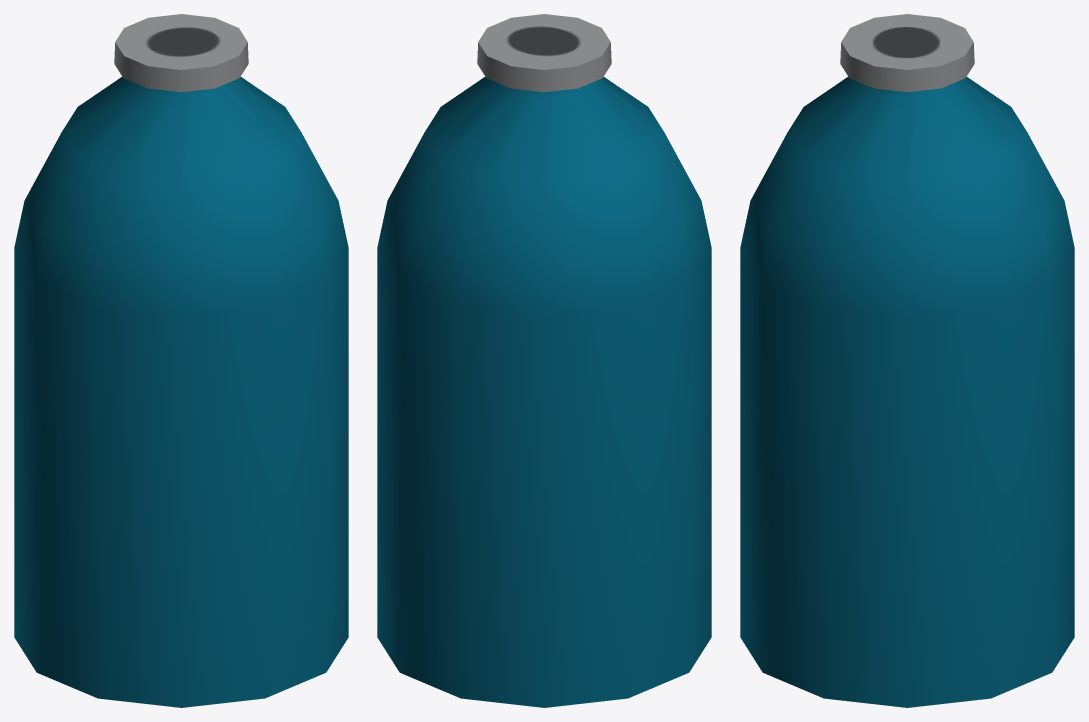
Rendered from vial6.FBX.
3 renders of one model, left to right at view 1: azimuth 30°, elevation 25°; view 2: azimuth 150°, elevation 25°; view 3: azimuth 270°, elevation 25°, orthographic.
Parts seen in each view (by area): view 1: vial6; view 2: vial6; view 3: vial6.
Boxes of the visible parts, bbox=[...] form: vial6: bbox=[14, 14, 348, 707]; vial6: bbox=[377, 14, 711, 707]; vial6: bbox=[740, 14, 1074, 707].
Bounding box in the file's own units: 3.4 × 3.4 × 6.68.
